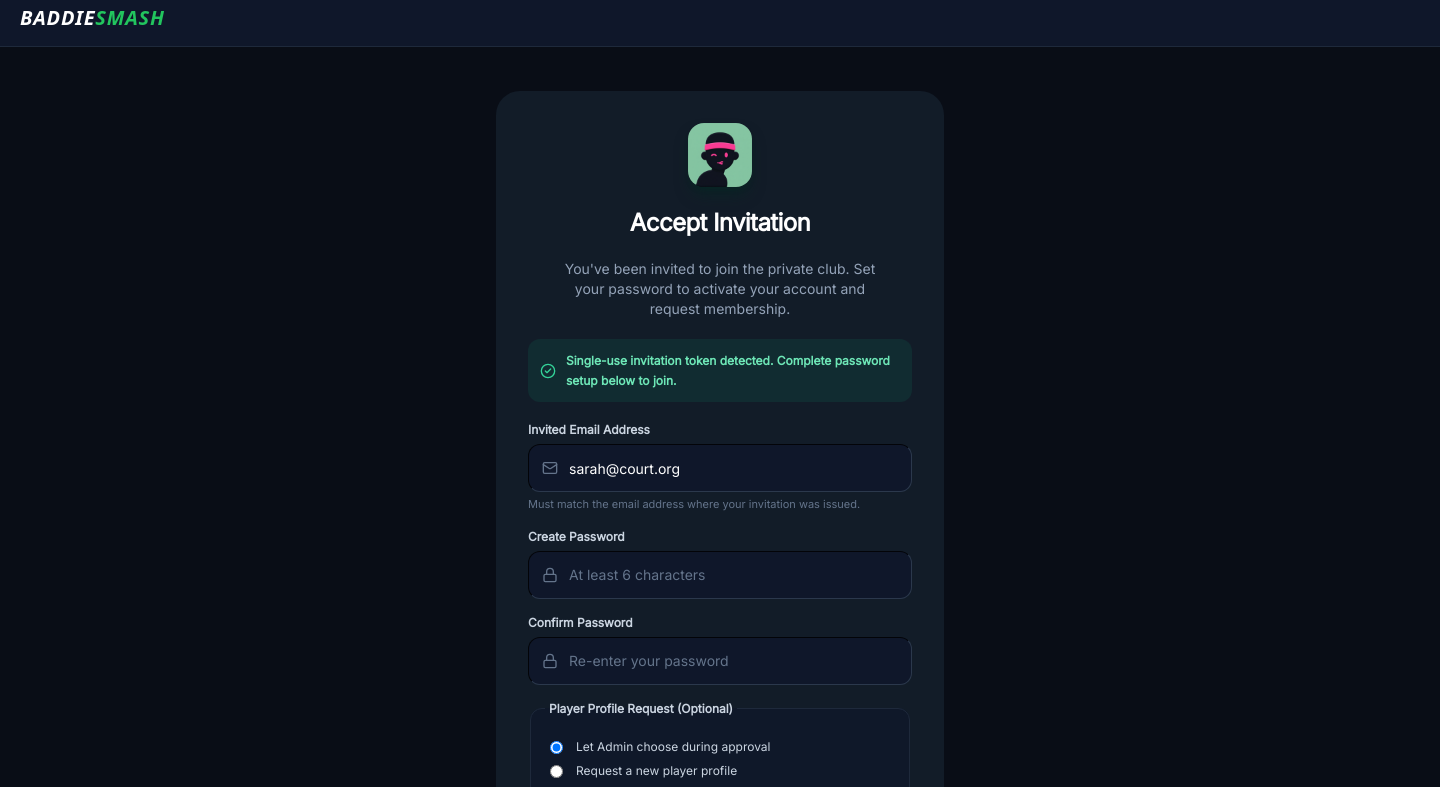
Scenario: Phase 31 — Single-Use Invitation Link Onboarding & Direct Password Setup › successfully creates account, automatically redeems invitation, and lands on pending approval (DEC-074)
# Enter matching valid password
Type "badminton2026" into the password field labelled "Create Password" at (720, 574), box top-left (528, 550), bottom-right (912, 598)
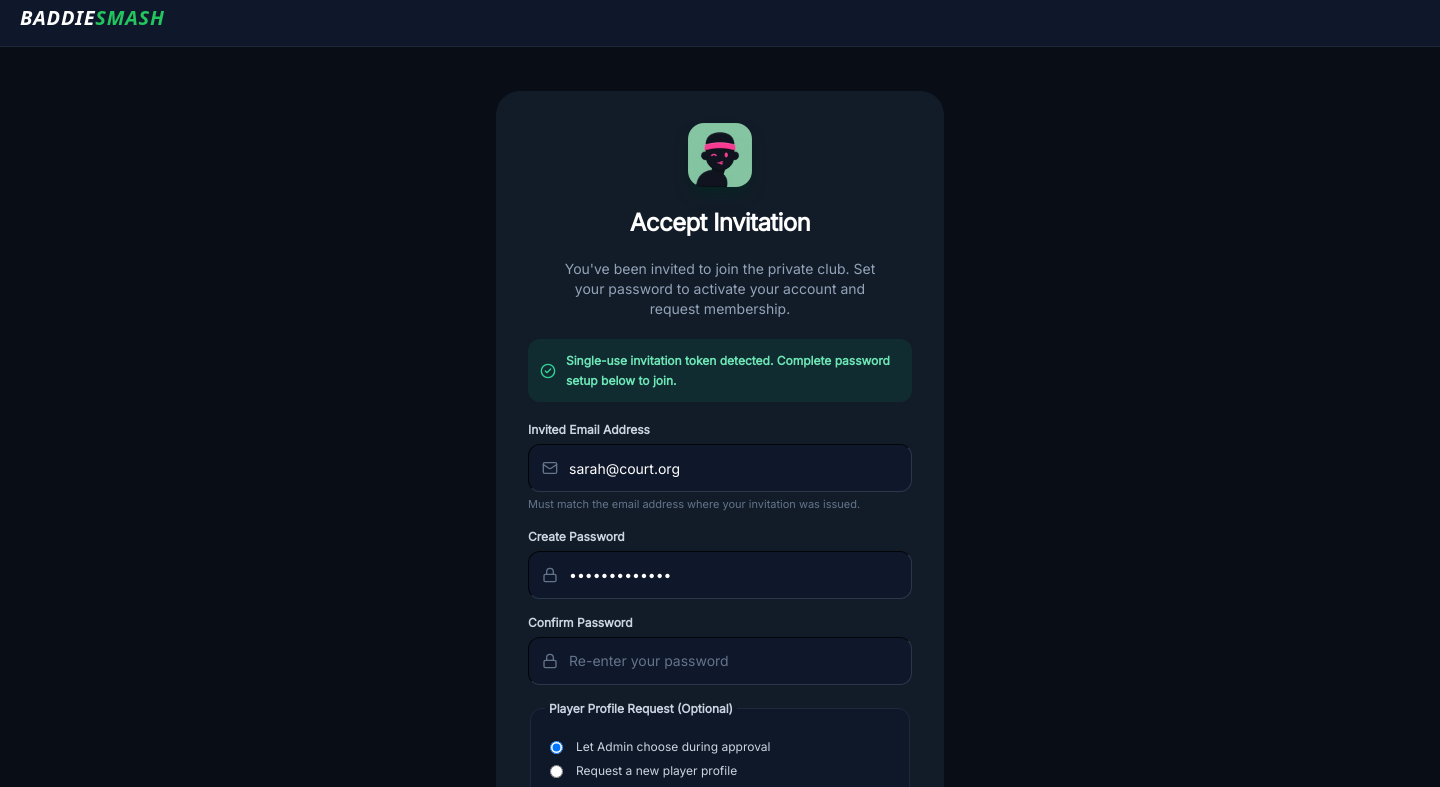
Type "badminton2026" into the password field labelled "Confirm Password" at (720, 660), box top-left (528, 636), bottom-right (912, 684)
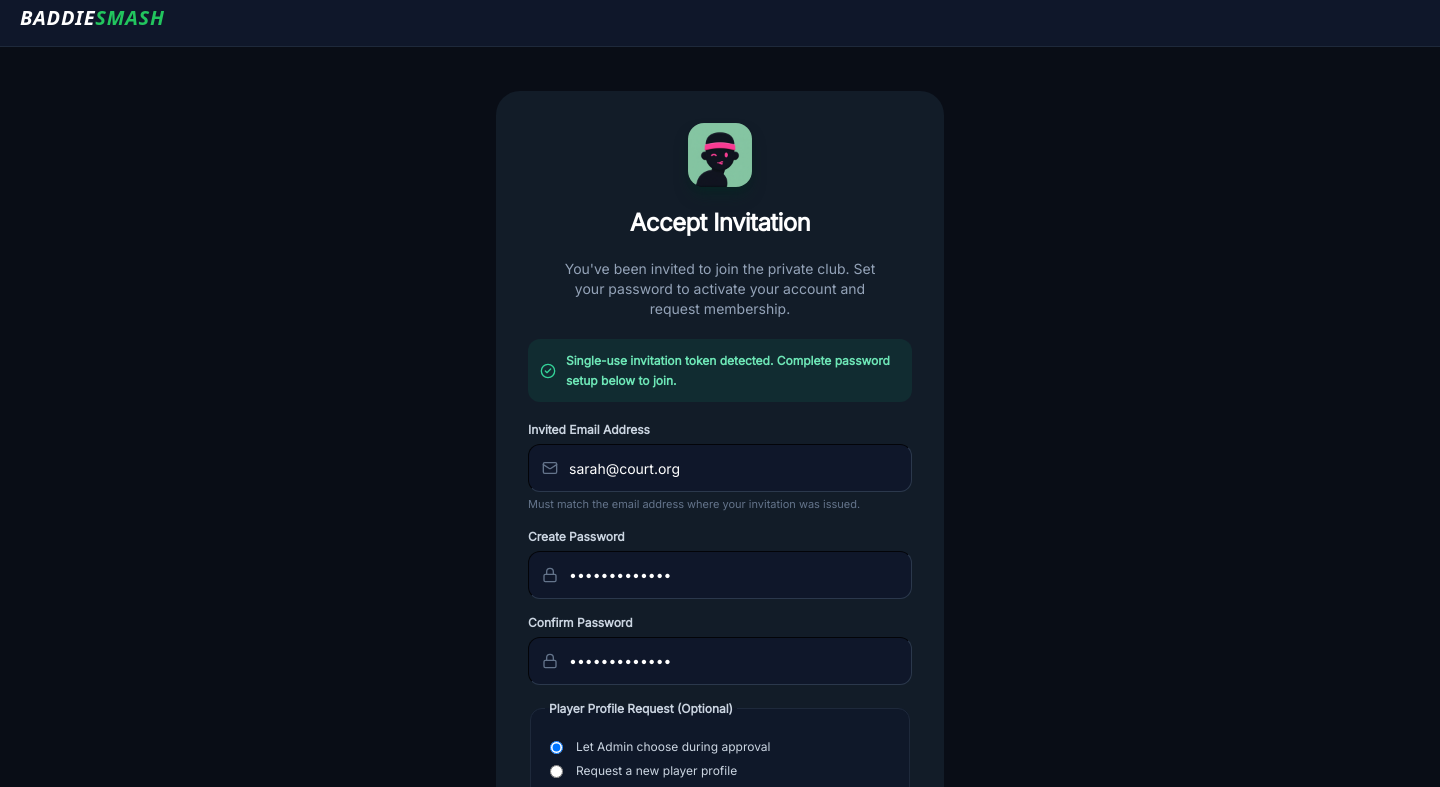
# Request new player profile
Click the radio button labelled "Request a new player profile" at (556, 771), box top-left (550, 764), bottom-right (563, 778)
(page scrolled)
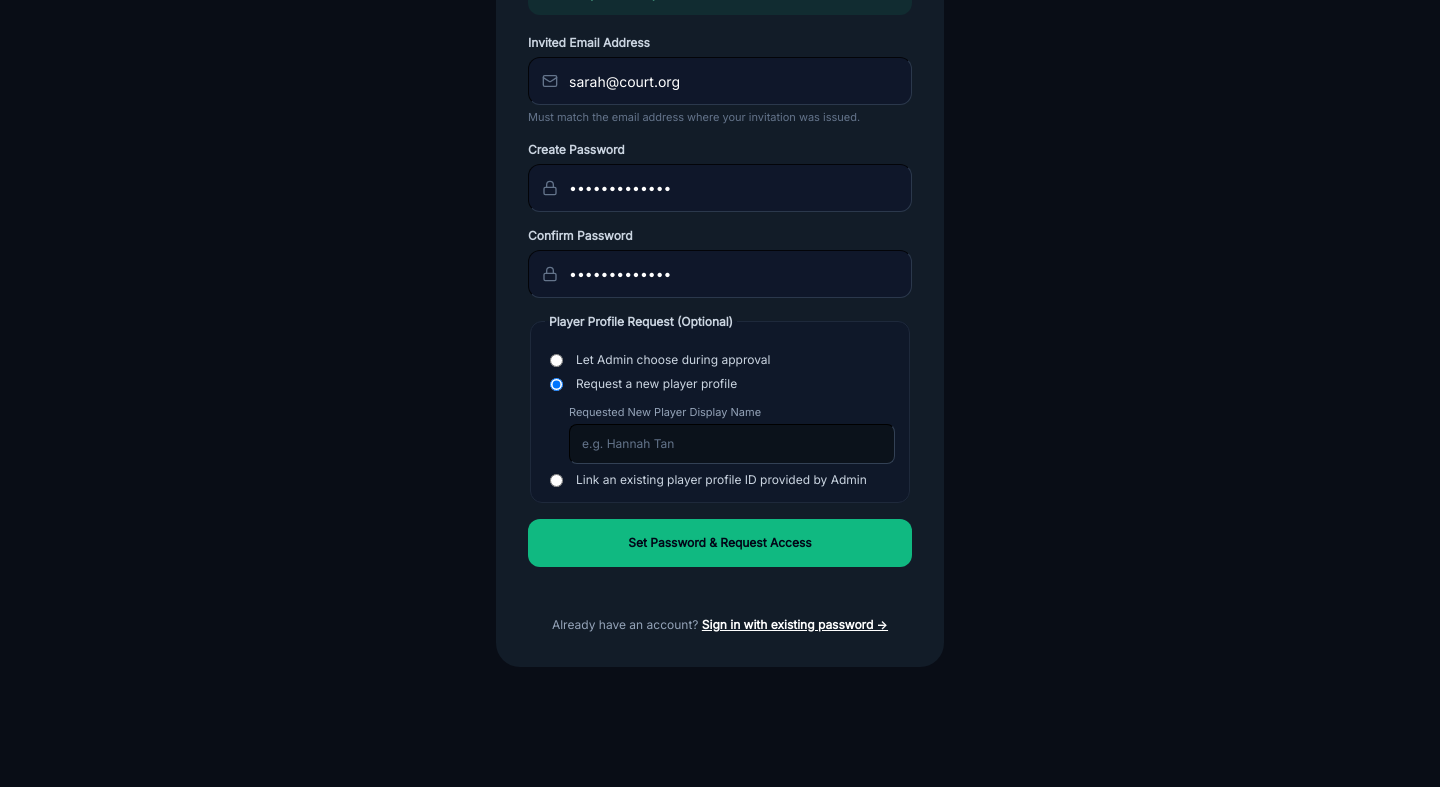
Type "Sarah Lee" into the field labelled "Requested New Player Display Name" at (732, 444), box top-left (569, 424), bottom-right (895, 464)
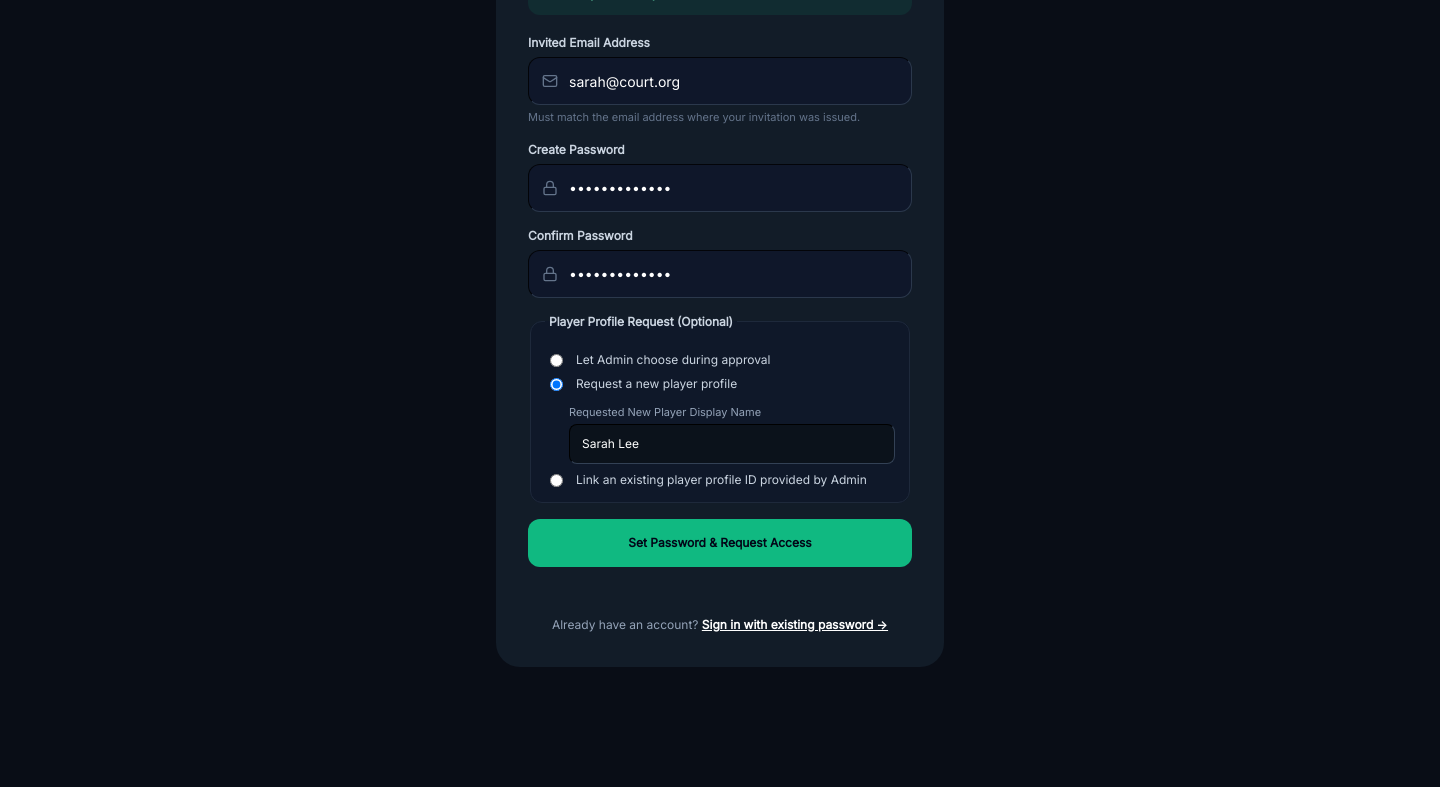
# Submit form
Click the button with test id "create-account-and-join-btn" at (720, 542), box top-left (528, 518), bottom-right (912, 566)
(page scrolled)
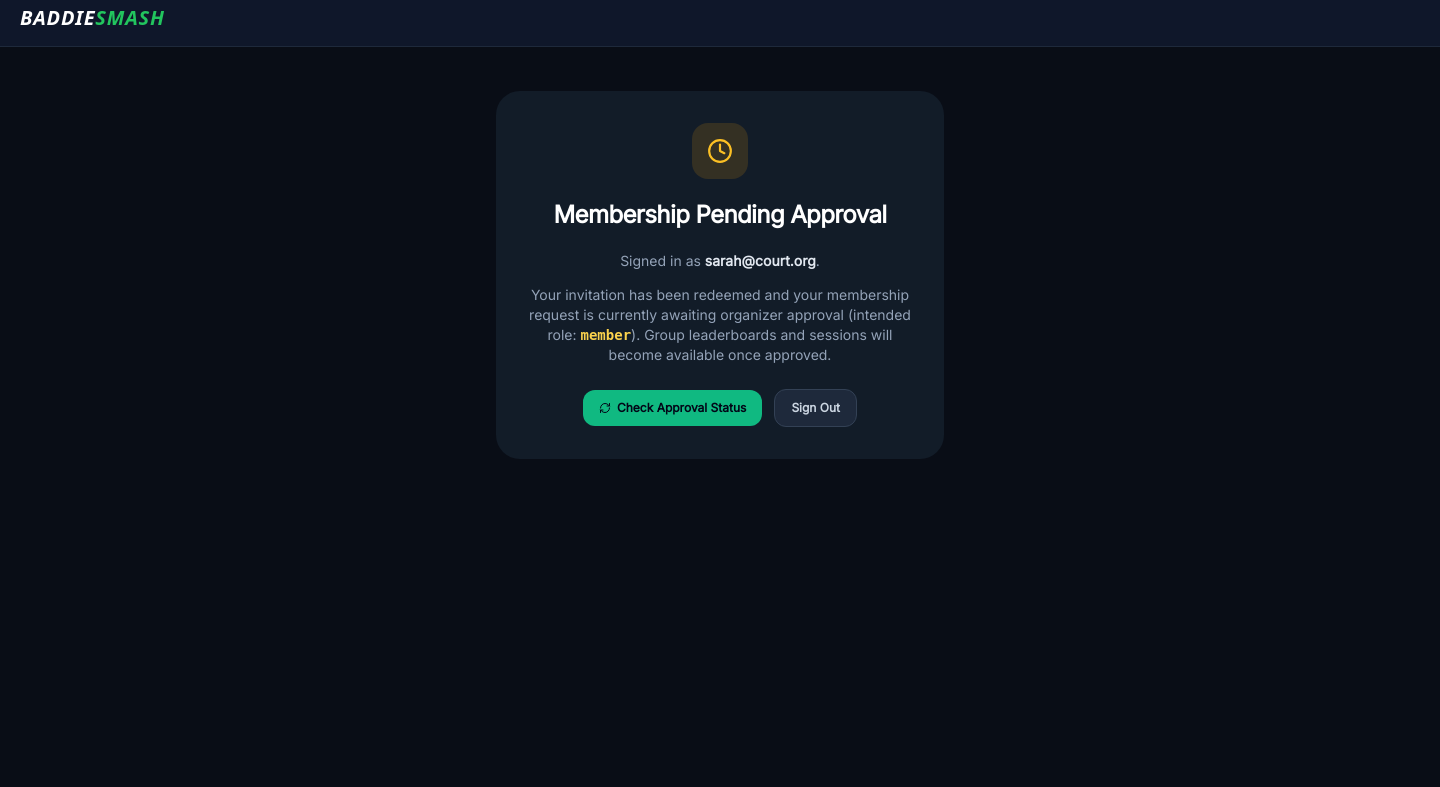
Check: the element with test id "gate-pending-approval" is shown, box top-left (496, 91), bottom-right (944, 459)
Check: the heading "Membership Pending Approval" is shown, box top-left (528, 199), bottom-right (912, 231)
